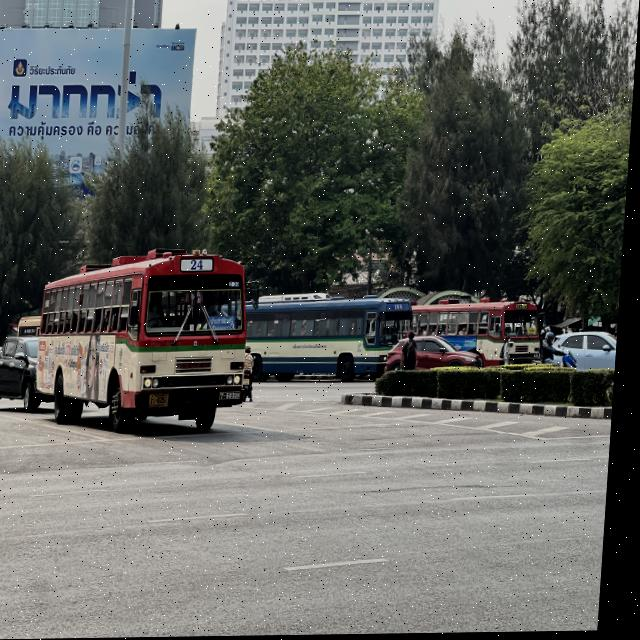BMTA-bus: (39, 250, 267, 434)
Bus-Line-Number: (184, 259, 218, 273)
Destination-Sign-Normal: (212, 316, 242, 330)
